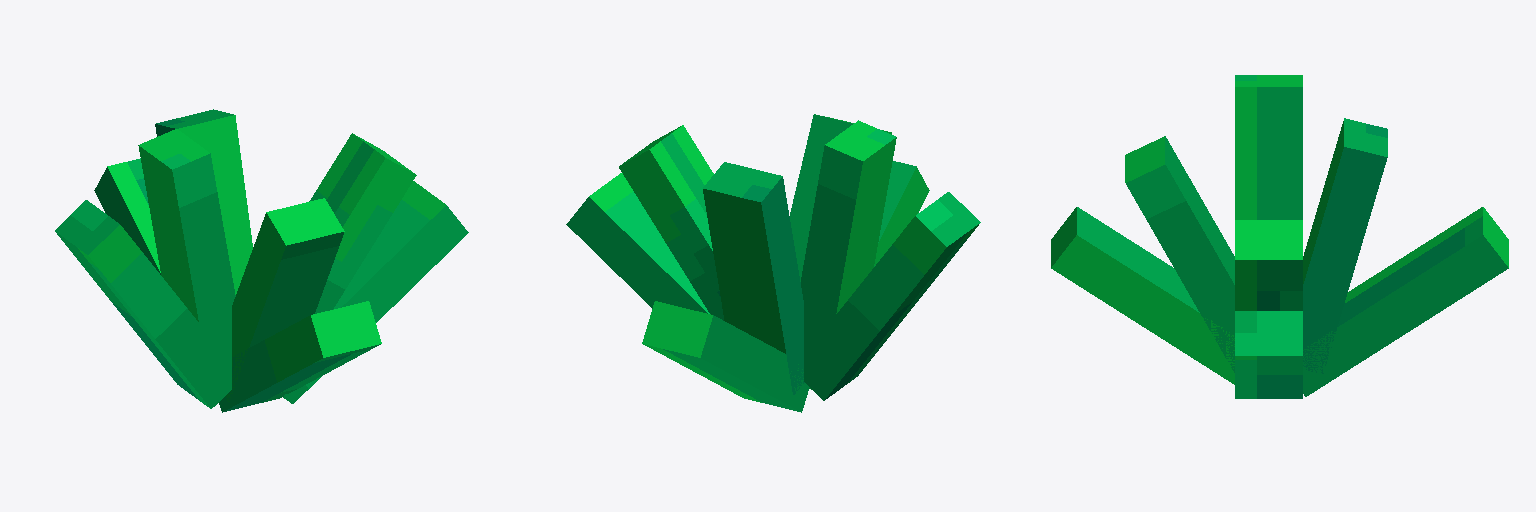
3 renders of one model, left to right at view 1: azimuth 30°, elevation 25°; view 2: azimuth 150°, elevation 25°; view 3: azimuth 270°, elevation 25°, orthographic.
Parts seen in each view (by area): view 1: cube; view 2: cube; view 3: cube.
Boxes of the visible parts, x1=… form: cube: x1=55, y1=109, x2=468, y2=412; cube: x1=566, y1=114, x2=980, y2=412; cube: x1=1051, y1=75, x2=1508, y2=398.
Size of the model in its own units: 1.22 by 0.8301 by 1.27.
1 materials, 1 textured.